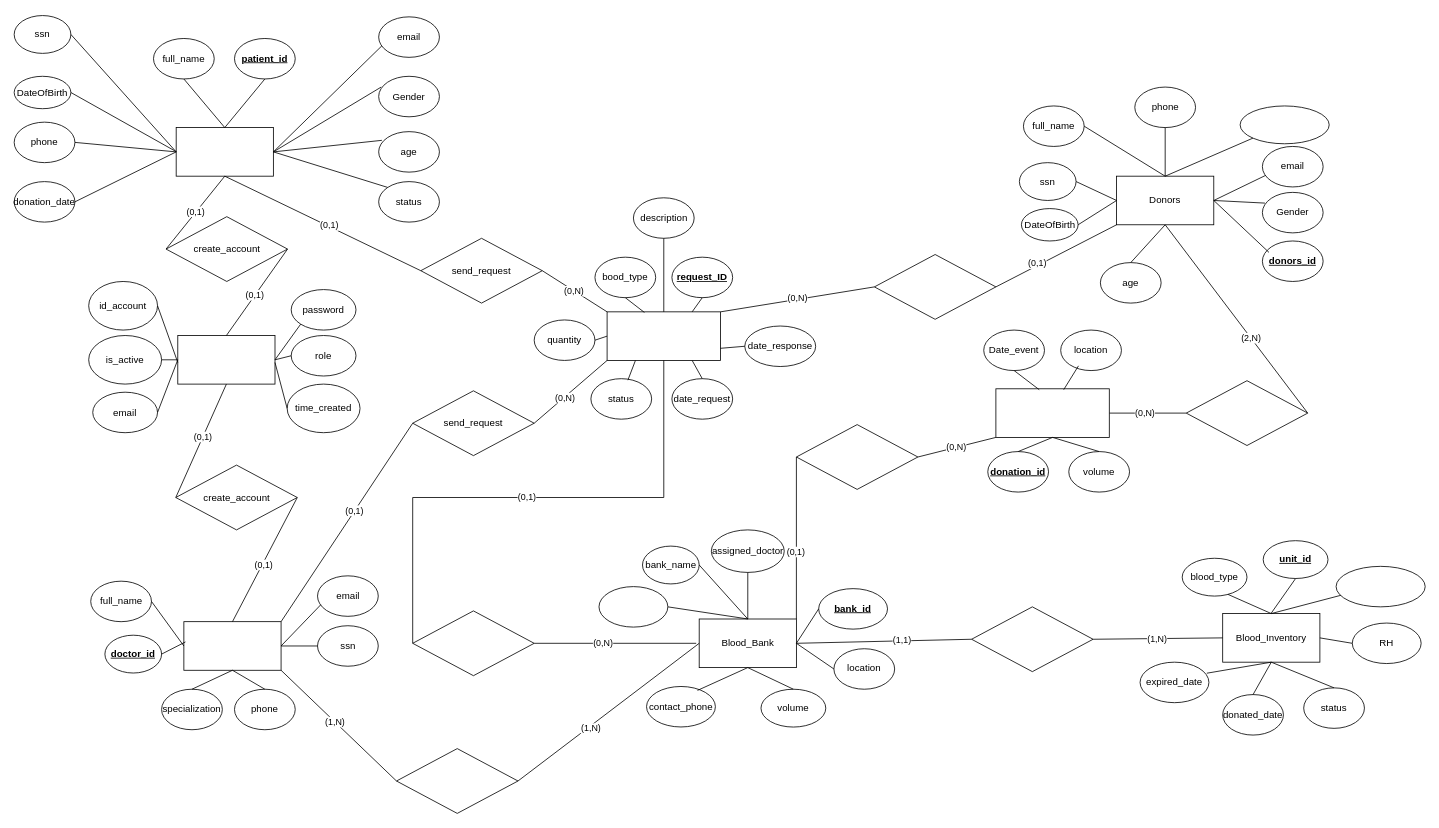
Some shapes in this 1439 by 828 pixel diagram are drawn without their labels. The shapes that lost their labels are listed below. From the top down, each one's box as (x1, y1, x2, y2) in pixels, then its label:
(1239, 105, 1329, 144): last_donation_date
(175, 127, 273, 176): Patients
(874, 254, 996, 319): give_request
(606, 311, 720, 360): Request
(177, 335, 275, 384): Account
(995, 388, 1109, 437): Donation_Event
(1185, 380, 1308, 446): enroll_in
(796, 424, 918, 489): organize
(598, 586, 668, 627): contact_email
(1335, 566, 1425, 607): volume_restored
(183, 621, 281, 670): Doctor
(412, 610, 534, 676): manage
(971, 606, 1093, 672): Store_at
(396, 748, 518, 813): work_at
